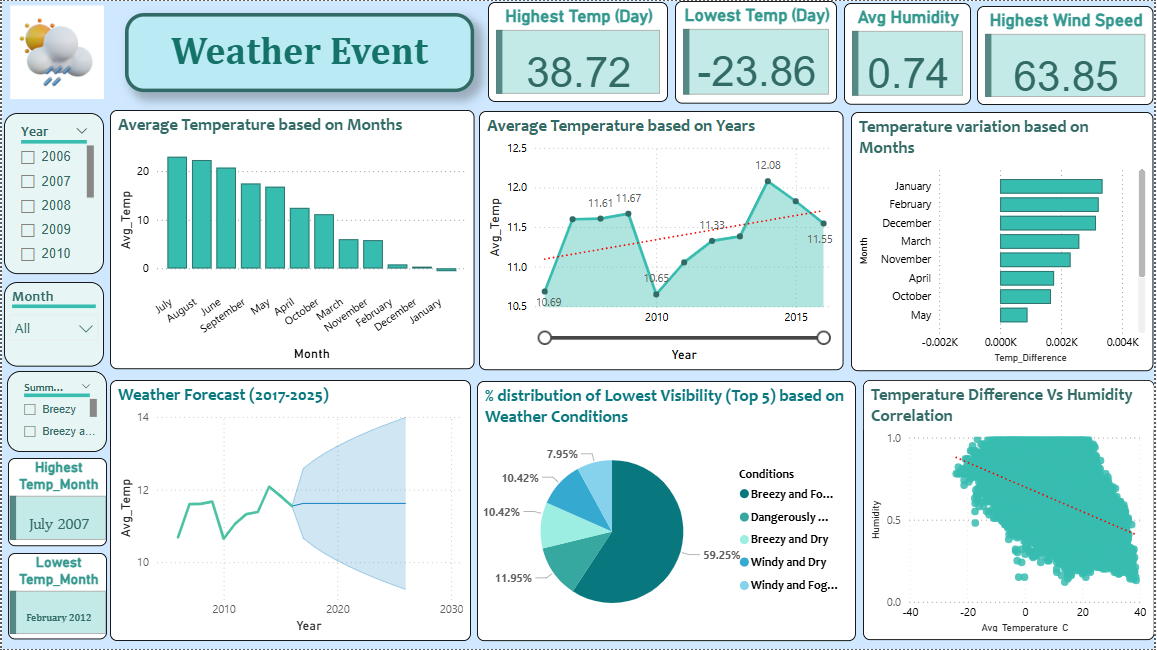

This screenshot's page, from the dashboard's own definition file:
{"tool":"powerbi","page":{"name":"WeatherHistory_Dashboard","canvas":[1280,720],"ordinal":0},"visuals":[{"type":"textbox","box":[136.2,13.8,387.5,87.5],"z":0},{"type":"cardVisual","title":"Highest Wind Speed","fields":{"Data":["Weather History Table.Measure"]},"box":[1083.8,5,196.2,110],"z":1000},{"type":"cardVisual","title":"Avg Humidity","fields":{"Data":["Weather History Table.Humidity meas"]},"box":[935,2.5,141.2,112.5],"z":2000},{"type":"cardVisual","title":"Lowest Temp (Day)","fields":{"Data":["Weather History Table.Lowet Temp"]},"box":[747.5,0,180,113.8],"z":3000},{"type":"cardVisual","title":"Highest Temp (Day)","fields":{"Data":["Weather History Table.Measure"]},"box":[540,1.2,200,111.2],"z":4000},{"type":"columnChart","title":"Average Temperature based on Months","fields":{"Category":["Weather History Table.W_Month"],"Y":["Avg(Weather History Table.Avg_Temperature_C)"]},"box":[119.8,121.2,404.9,288],"z":5000},{"type":"lineChart","title":"Average Temperature based on Years","fields":{"Category":["Weather History Table.W_Year"],"Y":["Avg(Weather History Table.Avg_Temperature_C)"]},"box":[530.4,122.6,404.9,288],"z":6000},{"type":"slicer","title":"Temparature variation based on Months","fields":{"Values":["Weather History Table.W_Year"]},"box":[2.6,124.5,111.2,178.7],"z":7000},{"type":"clusteredBarChart","title":"Temperature variation based on Months","fields":{"Category":["Weather History Table.W_Month"],"Y":["Avg(Weather History Table.Temperature_Difference)"]},"box":[943.8,123.8,336.2,287.5],"z":8000},{"type":"scatterChart","title":"Temperature Difference Vs Humidity Correlation","fields":{"Y":["Weather History Table.Humidity"],"X":["Weather History Table.Avg_Temperature_C"]},"box":[956.7,420.6,323.6,289.4],"z":9000},{"type":"pieChart","title":"% distribution of Lowest Visibility (Top 5) based on Weather Conditions","fields":{"Category":["Weather History Table.Summary"],"Y":["Sum(Weather History Table.Visibility_km)"]},"box":[528.3,422.3,421,288.6],"z":10000},{"type":"slicer","title":"Temparature variation based on Months","fields":{"Values":["Weather History Table.W_Month"]},"box":[2.6,312.5,111.2,94],"z":11000},{"type":"lineChart","title":"Weather Forecast (2017-2025)","fields":{"Category":["Weather History Table.W_Year"],"Y":["Avg(Weather History Table.Avg_Temperature_C)"]},"box":[120.5,421,401.2,289.9],"z":12000},{"type":"image","box":[2.5,0,117.5,113.8],"z":13000},{"type":"slicer","fields":{"Values":["Weather History Table.Summary"]},"box":[5,411.2,111.2,90],"z":14000},{"type":"cardVisual","title":"Lowest Temp_Month","fields":{"Data":["Weather History Table.MonthYearOfLowestTemp","Weather History Table.MonthYearOfLowestTemp"]},"box":[6.2,613.8,110,96.2],"z":15000},{"type":"cardVisual","title":"Highest Temp_Month","fields":{"Data":["Weather History Table.MonthYearOfLowestTemp"]},"box":[6.2,507.5,110,97.5],"z":16000}]}

Visuals, with their boxes in screenshot pixels (x1, y1, x2, y2), scaled from the page's 1280x720 canvas onto the 1157x650 screenshot:
textbox: bbox(123, 12, 473, 91)
"Highest Wind Speed" cardVisual: bbox(980, 5, 1156, 104)
"Avg Humidity" cardVisual: bbox(845, 2, 973, 104)
"Lowest Temp (Day)" cardVisual: bbox(676, 0, 838, 103)
"Highest Temp (Day)" cardVisual: bbox(488, 1, 669, 101)
"Average Temperature based on Months" columnChart: bbox(108, 109, 474, 369)
"Average Temperature based on Years" lineChart: bbox(479, 111, 845, 371)
"Temparature variation based on Months" slicer: bbox(2, 112, 103, 274)
"Temperature variation based on Months" clusteredBarChart: bbox(853, 112, 1156, 371)
"Temperature Difference Vs Humidity Correlation" scatterChart: bbox(865, 380, 1156, 641)
"% distribution of Lowest Visibility (Top 5) based on Weather Conditions" pieChart: bbox(478, 381, 858, 642)
"Temparature variation based on Months" slicer: bbox(2, 282, 103, 367)
"Weather Forecast (2017-2025)" lineChart: bbox(109, 380, 472, 642)
image: bbox(2, 0, 108, 103)
slicer - Weather History Table.Summary: bbox(5, 371, 105, 452)
"Lowest Temp_Month" cardVisual: bbox(6, 554, 105, 641)
"Highest Temp_Month" cardVisual: bbox(6, 458, 105, 546)
